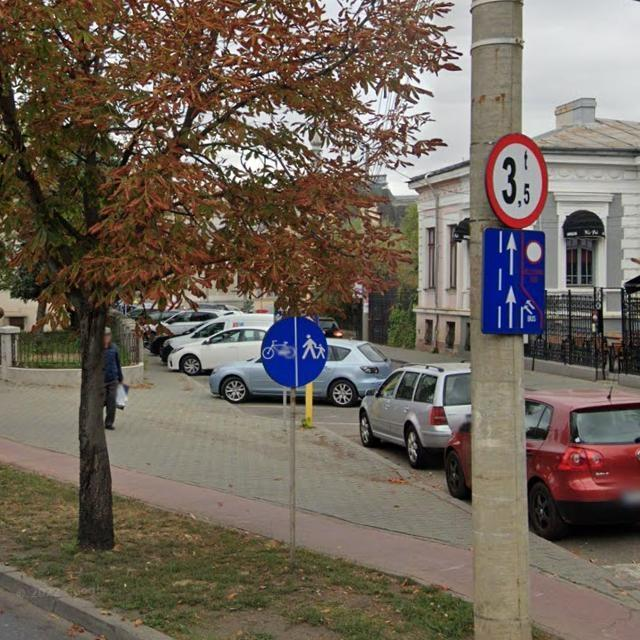prio_give_way: (256, 303, 262, 314)
